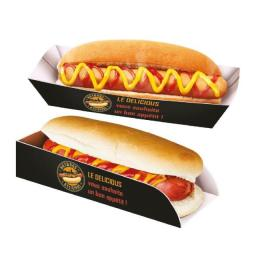hotdog: (46, 116, 202, 209), (52, 37, 232, 115)
